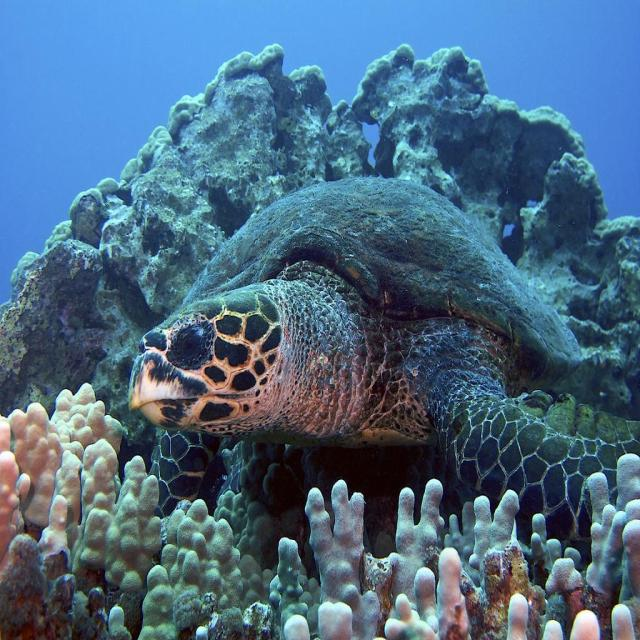sea turtle: (171, 168, 597, 396), (426, 361, 618, 514), (114, 290, 276, 432)
